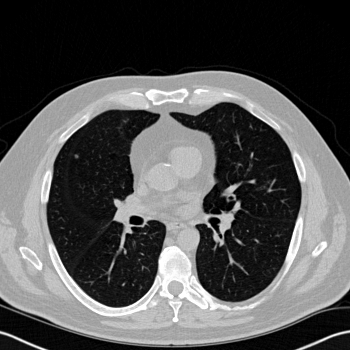nodule: (74, 154, 78, 158)
